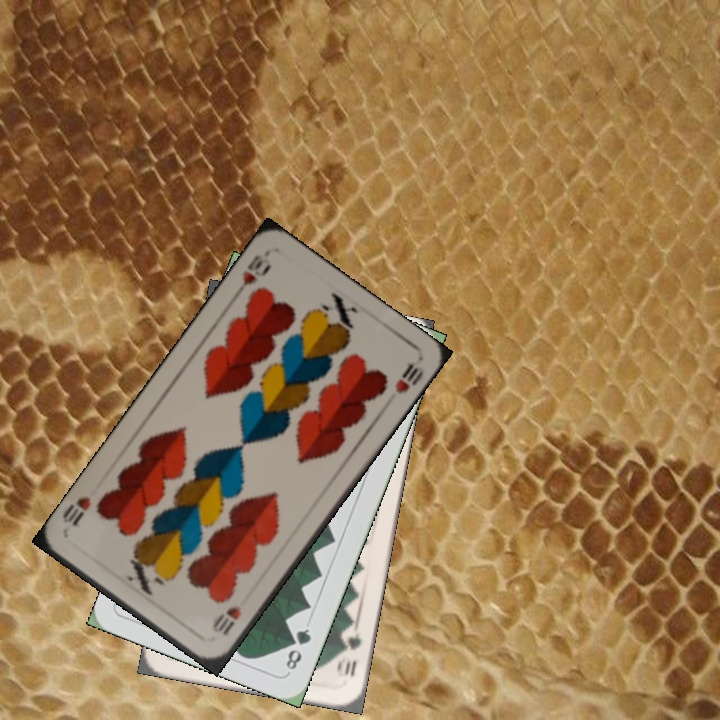G10: (334, 627, 364, 680)
G8: (282, 624, 314, 675)
H10: (238, 250, 274, 289), (208, 602, 244, 639)
